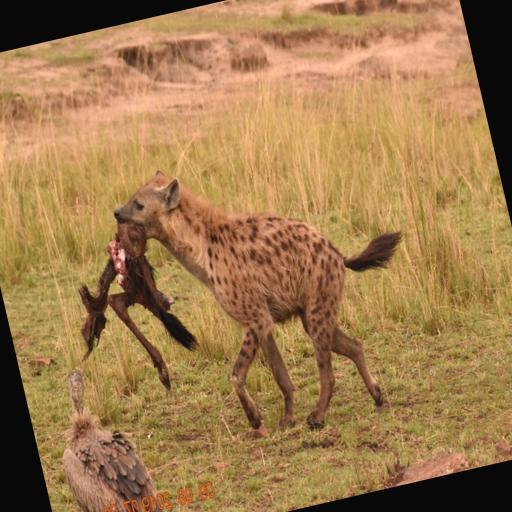hyenas: (0, 130, 435, 485)
